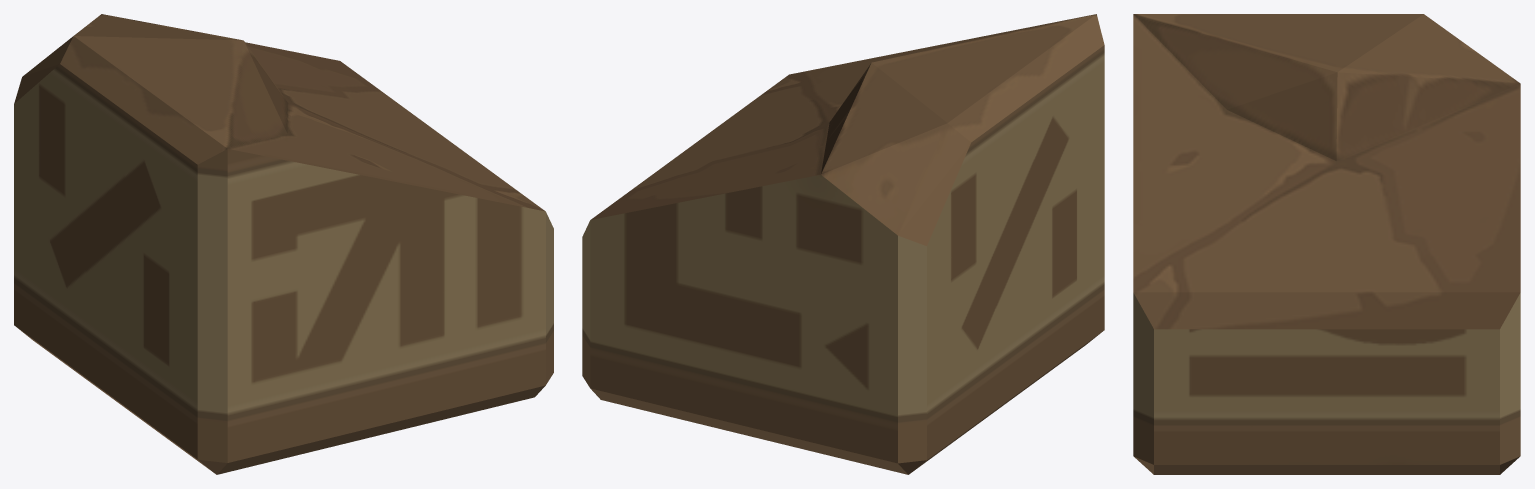
Rendered from BG_055_pillarbreak.FBX.
The picture shows the model from 3 angles, left to right: view 1: azimuth 30°, elevation 25°; view 2: azimuth 150°, elevation 25°; view 3: azimuth 270°, elevation 25°; orthographic projection. The views are drawn at different scales.
Visible parts, largest first — view 1: BG_055_pillarbreak; view 2: BG_055_pillarbreak; view 3: BG_055_pillarbreak.
Part boxes in pixels (x1,y1,x2,y2): BG_055_pillarbreak: (14,14,553,474); BG_055_pillarbreak: (582,14,1104,474); BG_055_pillarbreak: (1133,14,1520,474).
Size of the model in its own units: 87.52 by 78.46 by 87.52.
